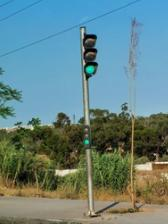green_light: (83, 34, 98, 78), (84, 125, 90, 148)
